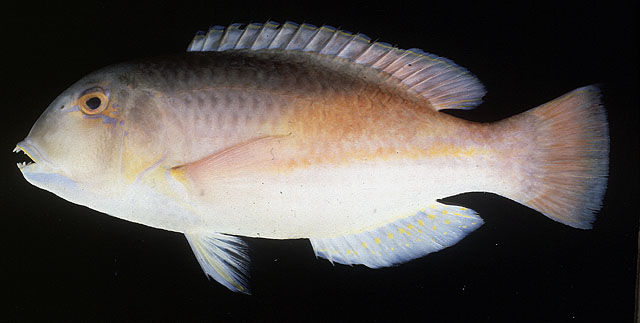fish: (15, 21, 610, 295)
